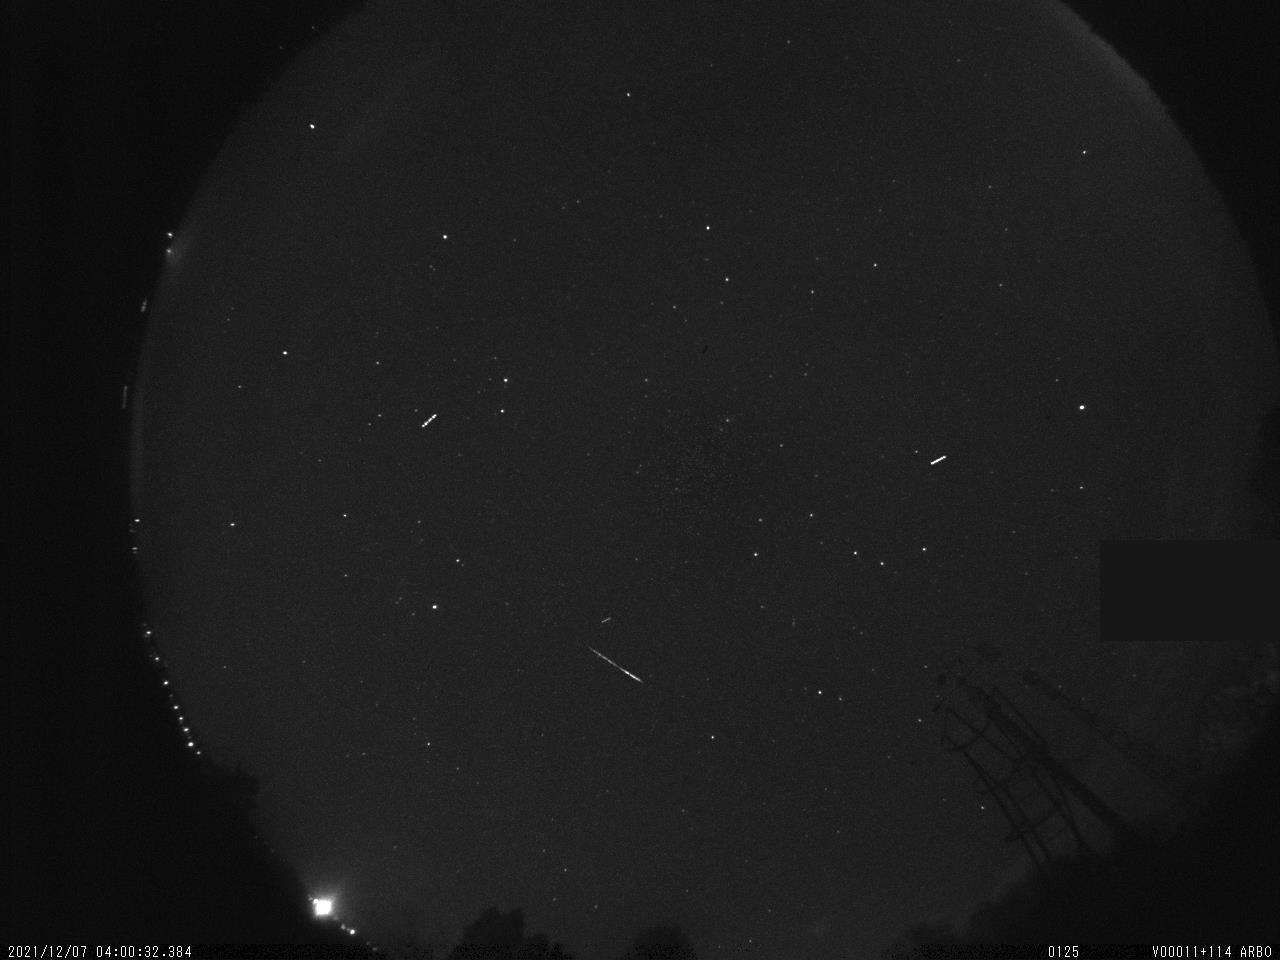meteor: (581, 636, 651, 692)
satelite: (414, 409, 439, 434), (926, 450, 950, 473)
